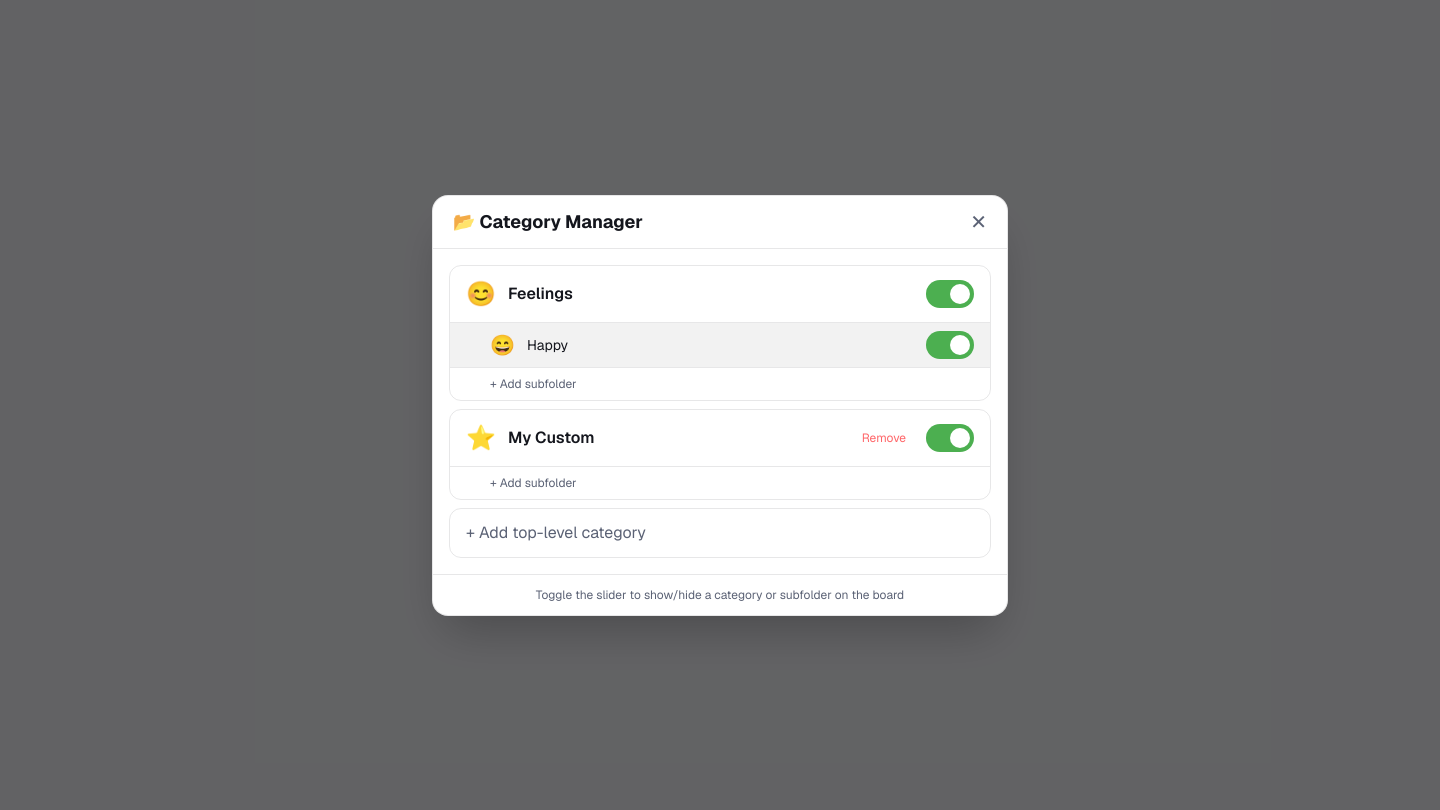
Test: CategoryManagerModal — add top-level category › clicking + Add top-level category shows name input
Click the button "+ Add top-level category".
click(556, 532)  # box x1=450 y1=508 x2=990 y2=556
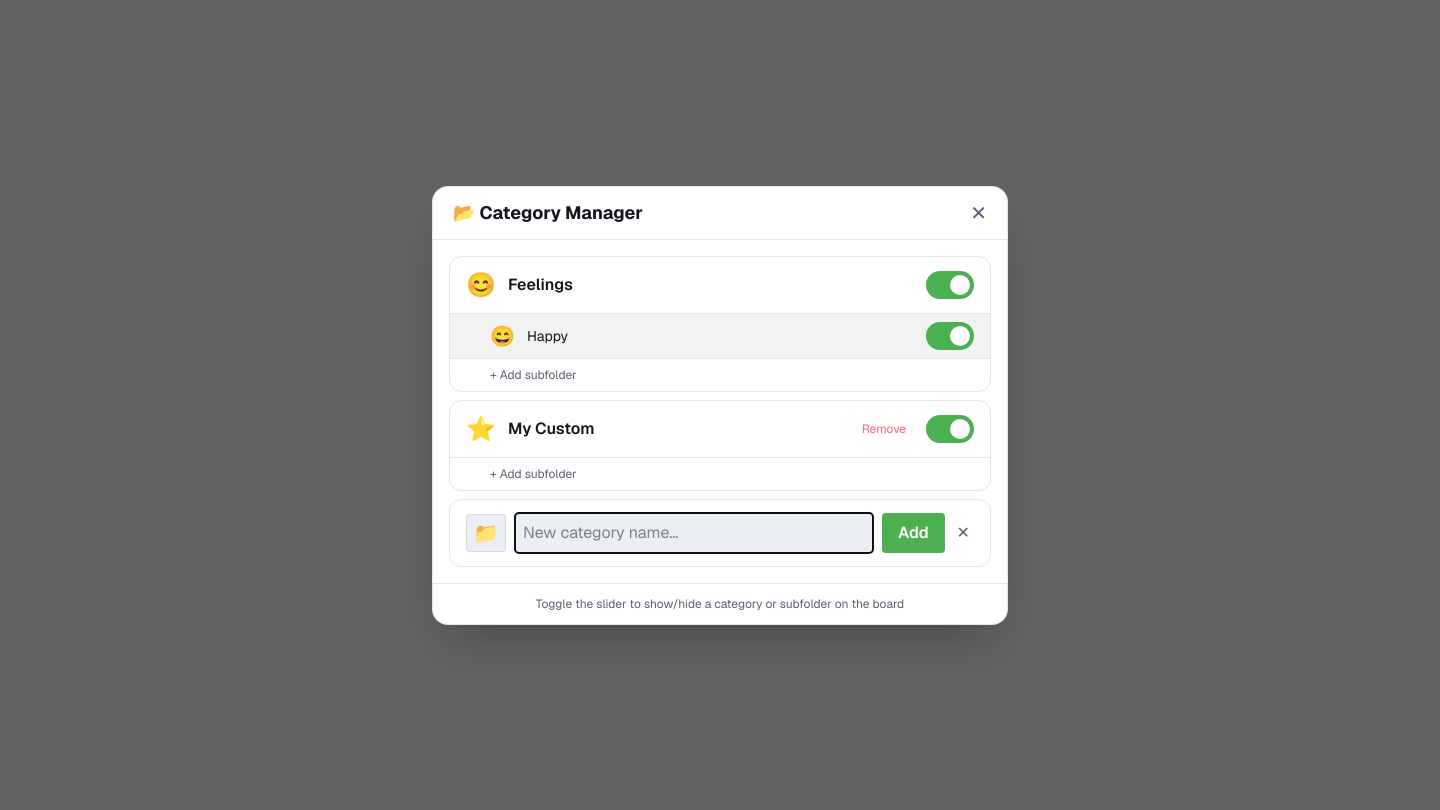
Result: the field with placeholder "New category name…" is shown at x1=514 y1=512 x2=874 y2=554
